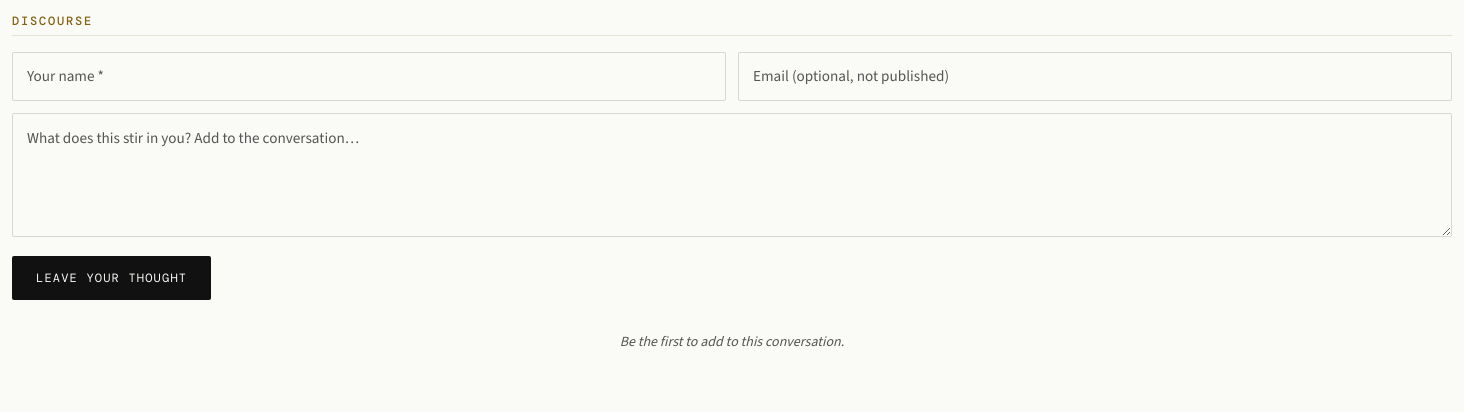
Scenario: PostComments › shows the empty prompt once loaded and requires a name and a thought
Expected: the text "Be the first to add to this conversation." is shown, [620,332,844,352]
Step 1. Click the button "Leave your thought" → {"x": 112, "y": 278}, box [12,256,211,300]
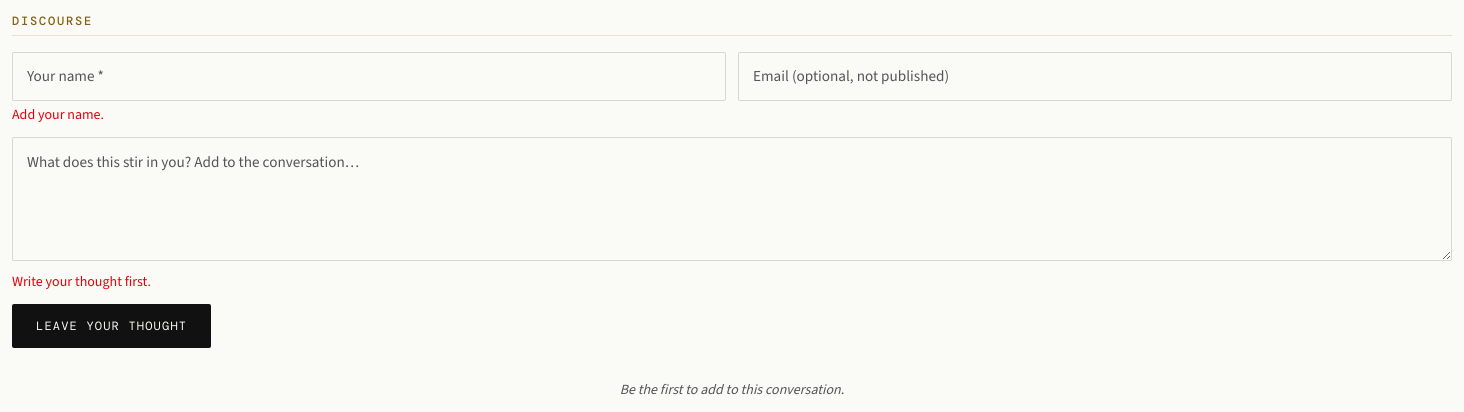
Now the text "Add your name." is shown, box [12,105,104,124]
Now the text "Write your thought first." is shown, box [12,272,151,292]
